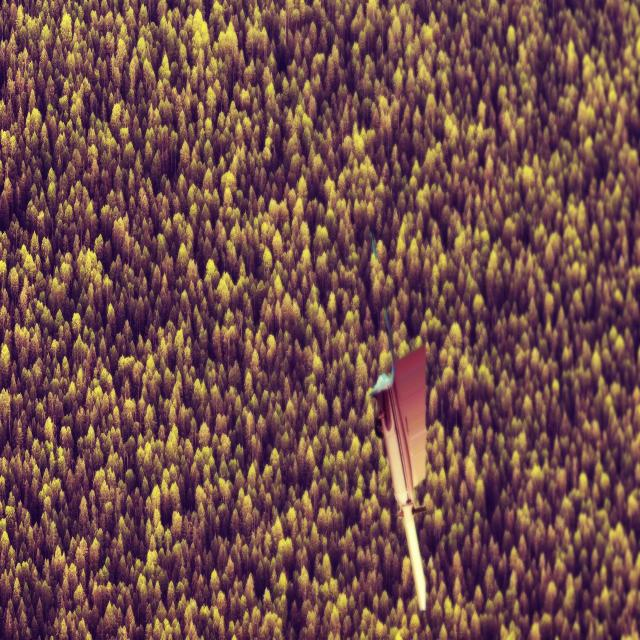airplane: (367, 230, 428, 612)
